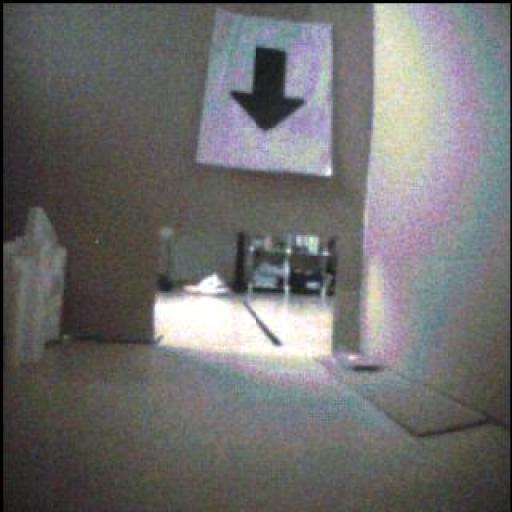arrow: (231, 48, 305, 131)
